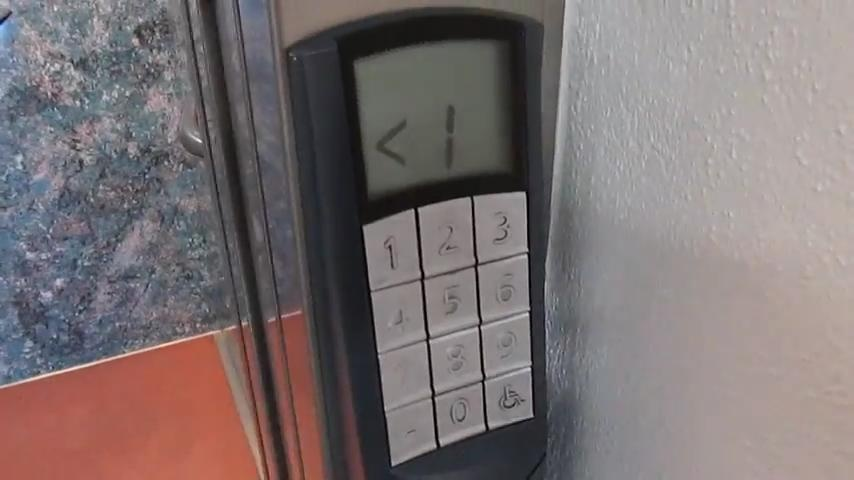-: (384, 396, 438, 468)
0: (432, 383, 486, 450)
1: (360, 209, 424, 291)
2: (415, 195, 477, 280)
3: (472, 190, 531, 262)
4: (369, 280, 429, 354)
5: (422, 266, 481, 340)
6: (476, 254, 531, 326)
8: (429, 327, 485, 395)
9: (481, 313, 532, 382)
CH: (483, 367, 536, 430)
blur: (376, 340, 434, 413)
led: (334, 15, 531, 224)
